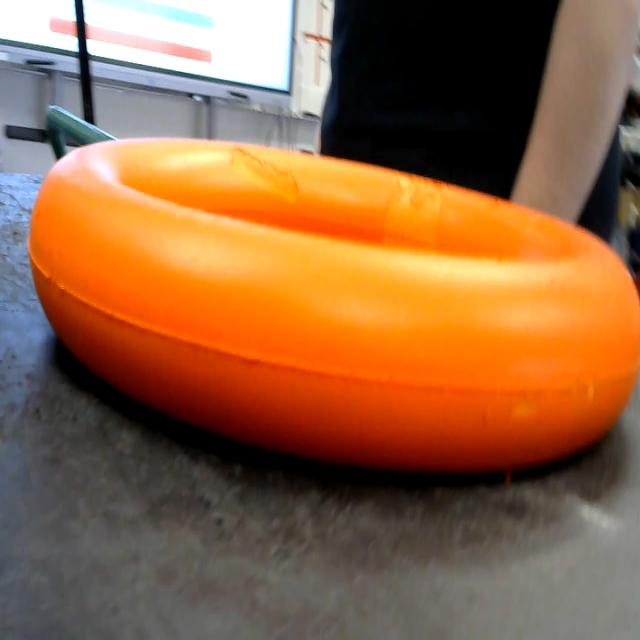note: (19, 99, 640, 513)
